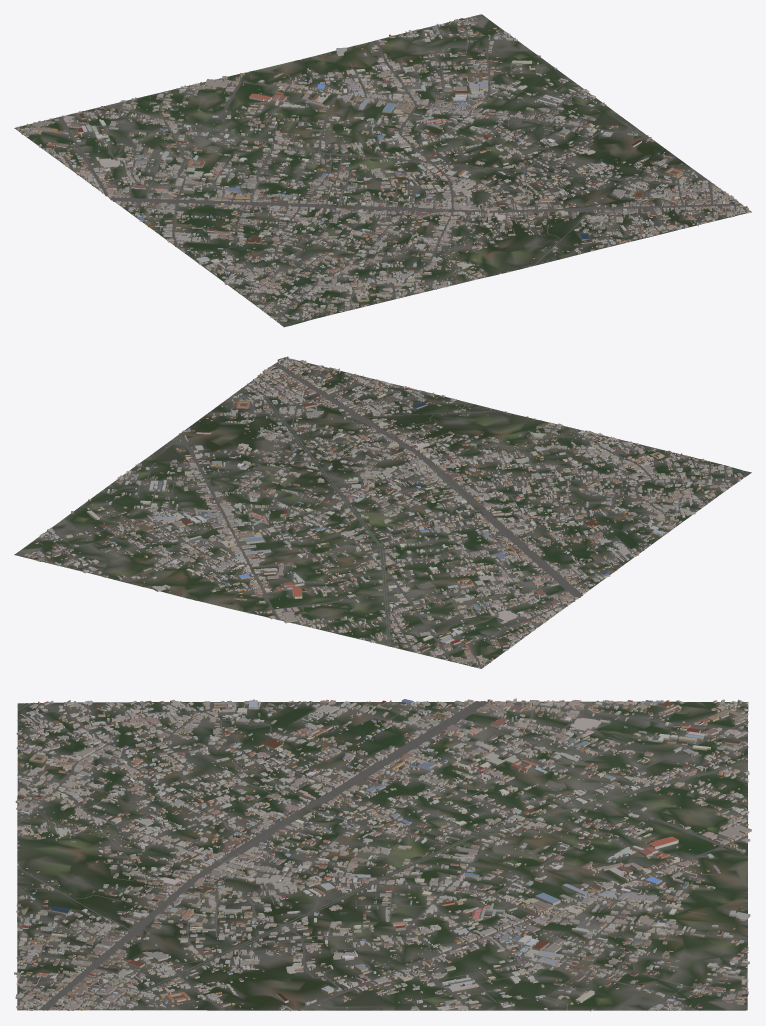
The picture shows the model from 3 angles, top to bottom: view 1: azimuth 30°, elevation 25°; view 2: azimuth 150°, elevation 25°; view 3: azimuth 270°, elevation 25°; orthographic projection. The views are drawn at different scales.
Parts seen in each view (by area): view 1: ground, buildings, roads; view 2: ground, buildings, roads; view 3: ground, buildings, roads.
Boxes of the visible parts, bbox=[...] form: ground: bbox=[14, 14, 751, 327]; buildings: bbox=[16, 16, 749, 321]; roads: bbox=[16, 17, 746, 325]; ground: bbox=[14, 358, 751, 668]; buildings: bbox=[24, 356, 744, 668]; roads: bbox=[20, 358, 748, 667]; ground: bbox=[17, 701, 748, 1010]; buildings: bbox=[14, 698, 751, 1011]; roads: bbox=[17, 701, 748, 1010].
Size of the model in its own units: 2816 by 27.46 by 2830.
